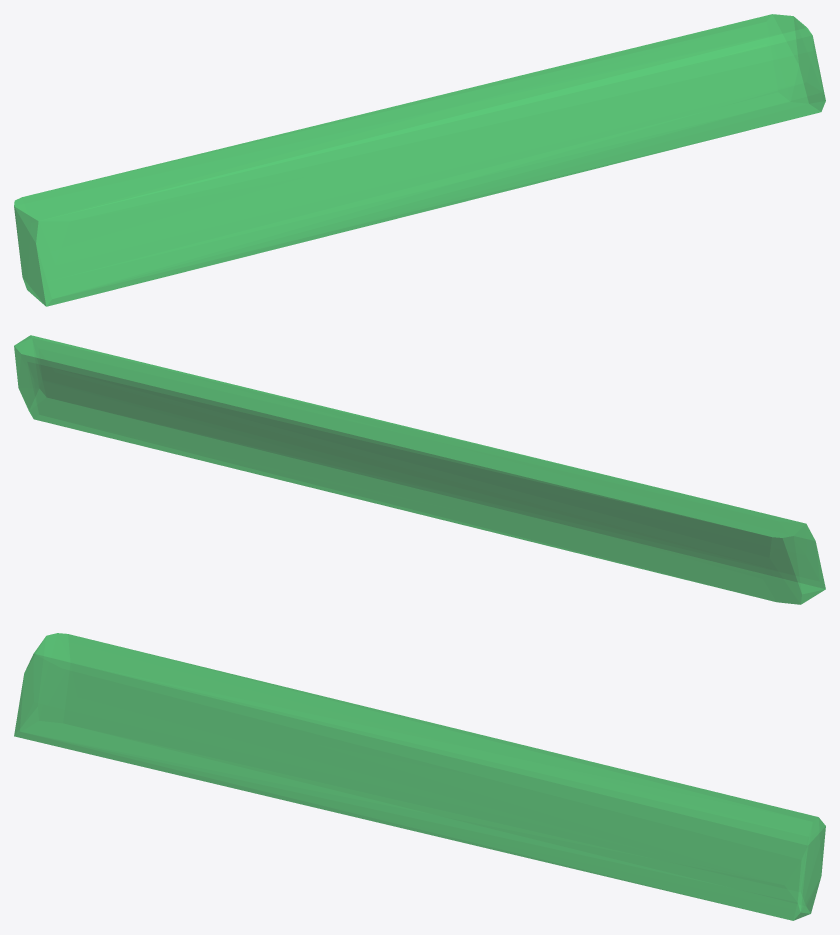
The picture shows the model from 3 angles, top to bottom: view 1: azimuth 30°, elevation 25°; view 2: azimuth 150°, elevation 25°; view 3: azimuth 330°, elevation 25°; orthographic projection.
Parts seen in each view (by area): view 1: Shape_IndexedFaceSet.001_Shape_IndexedFaceSet.15145; view 2: Shape_IndexedFaceSet.001_Shape_IndexedFaceSet.15145; view 3: Shape_IndexedFaceSet.001_Shape_IndexedFaceSet.15145.
Boxes of the visible parts, x1,y1,x2,y2 form: Shape_IndexedFaceSet.001_Shape_IndexedFaceSet.15145: (14,14,825,306); Shape_IndexedFaceSet.001_Shape_IndexedFaceSet.15145: (14,335,825,604); Shape_IndexedFaceSet.001_Shape_IndexedFaceSet.15145: (14,633,825,920).
Size of the model in its own units: 1.06 by 0.1004 by 0.0923.
